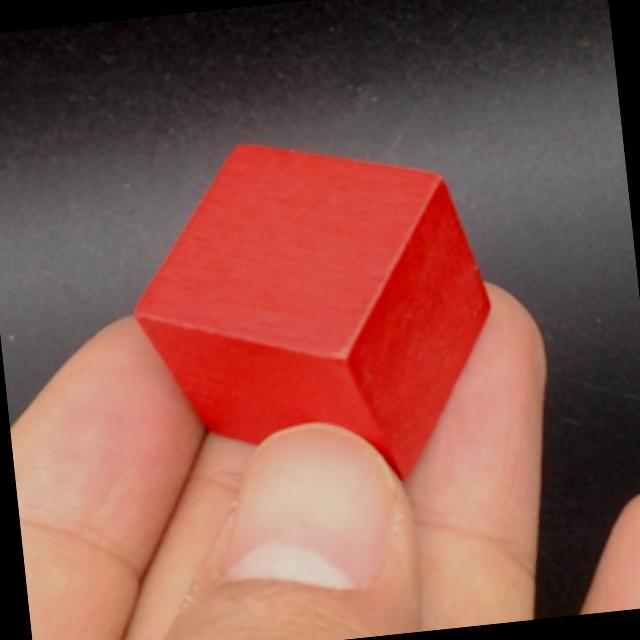red cube: (132, 144, 490, 482)
